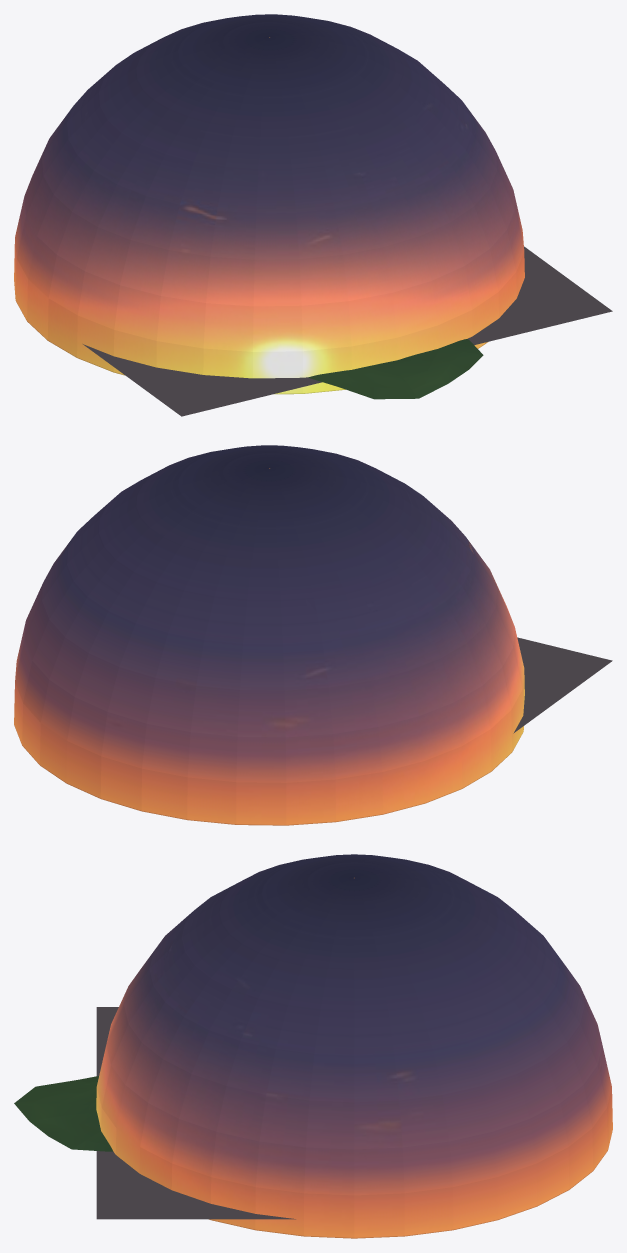
The model's file is lugar-manaos-ciudad.glb.
3 views of the same model, one above another, from view 1: azimuth 30°, elevation 25°; view 2: azimuth 150°, elevation 25°; view 3: azimuth 270°, elevation 25° (orthographic).
Parts seen in each view (by area): view 1: planoC, vertT; view 2: planoC; view 3: planoC, vertT.
Boxes of the visible parts, <box> form: planoC: <box>14,14,612,416</box>; vertT: <box>308,339,483,399</box>; planoC: <box>14,445,612,825</box>; planoC: <box>96,854,612,1238</box>; vertT: <box>14,1076,113,1151</box>.
Size of the model in its own units: 6584 by 3530 by 7625.
9 materials, 7 textured.
